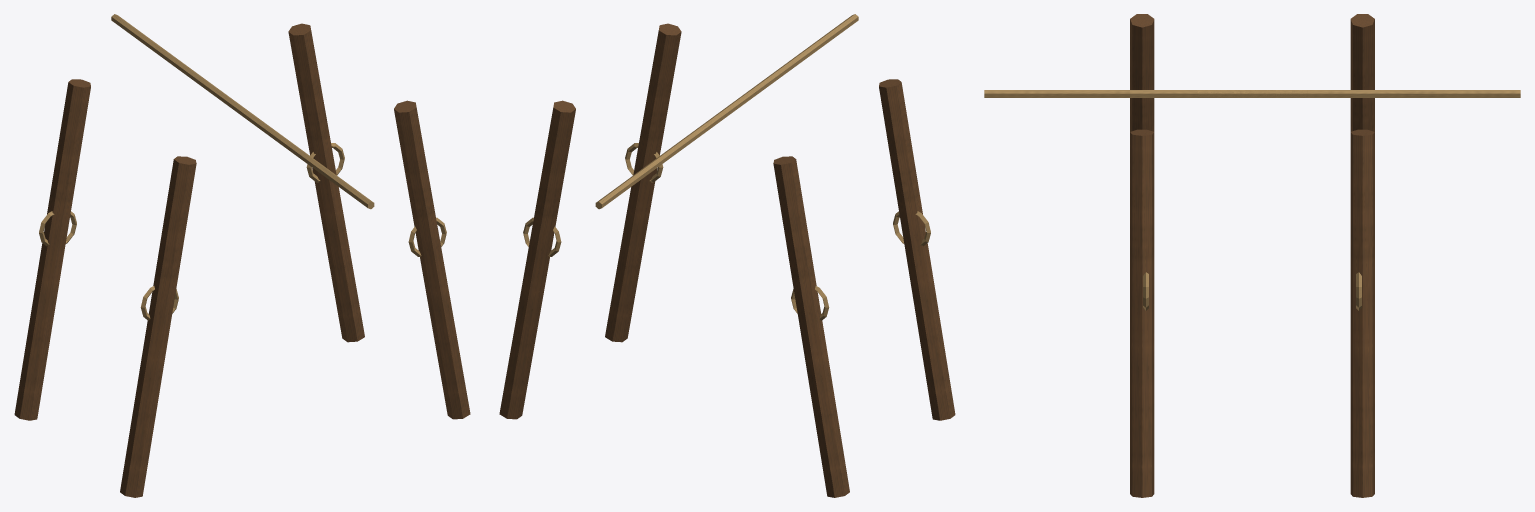
File: en-020_rain_catcher_placement_set__frame.obj
3 renders of one model, left to right at view 1: azimuth 30°, elevation 25°; view 2: azimuth 150°, elevation 25°; view 3: azimuth 270°, elevation 25°, orthographic. The views are drawn at different scales.
Parts seen in each view (by area): view 1: en-020_rain_catcher_placement_set__frame; view 2: en-020_rain_catcher_placement_set__frame; view 3: en-020_rain_catcher_placement_set__frame.
Boxes of the visible parts, <box> form: en-020_rain_catcher_placement_set__frame: <box>14,14,470,497</box>; en-020_rain_catcher_placement_set__frame: <box>499,14,955,497</box>; en-020_rain_catcher_placement_set__frame: <box>984,14,1520,497</box>.
Bounding box in the file's own units: 1.14 × 1.02 × 1.46.
2 materials, 2 textured.
